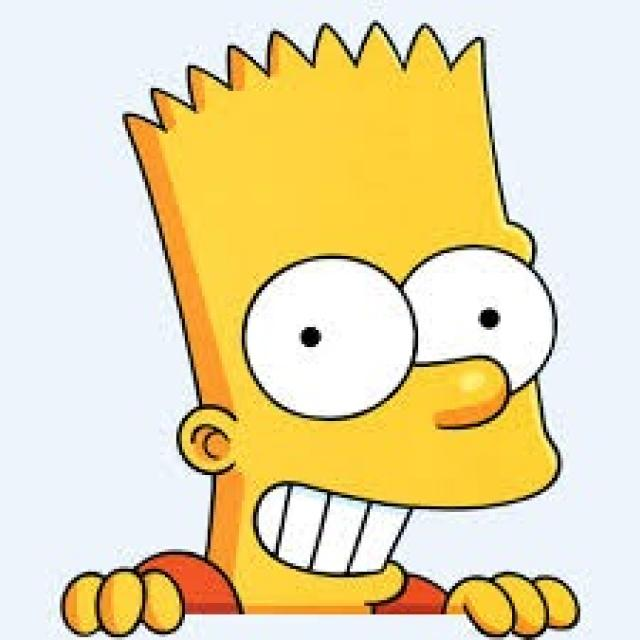Bart Simpson: (115, 21, 568, 633)
